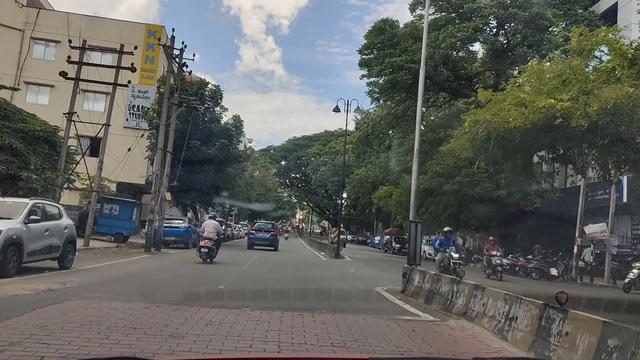SpeedBump: (48, 297, 480, 358)
